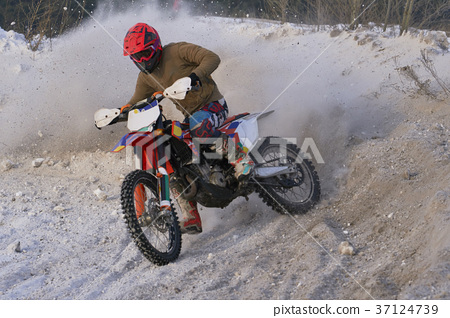helmet: (120, 21, 168, 72)
